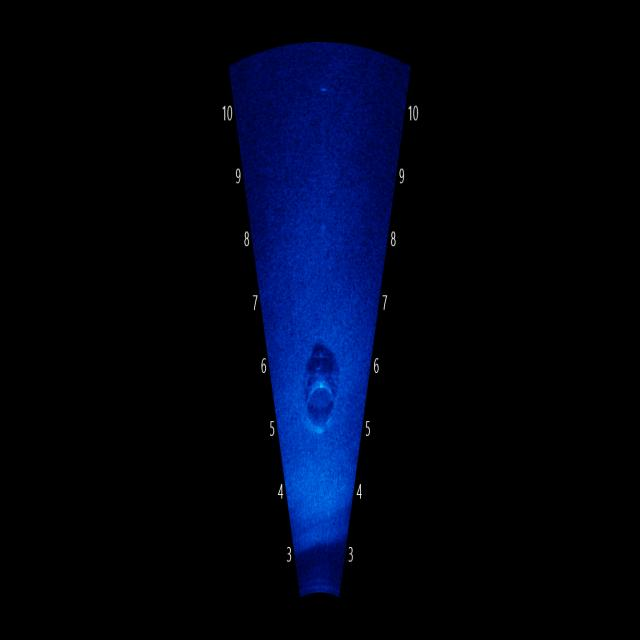circle: (295, 342, 343, 436)
